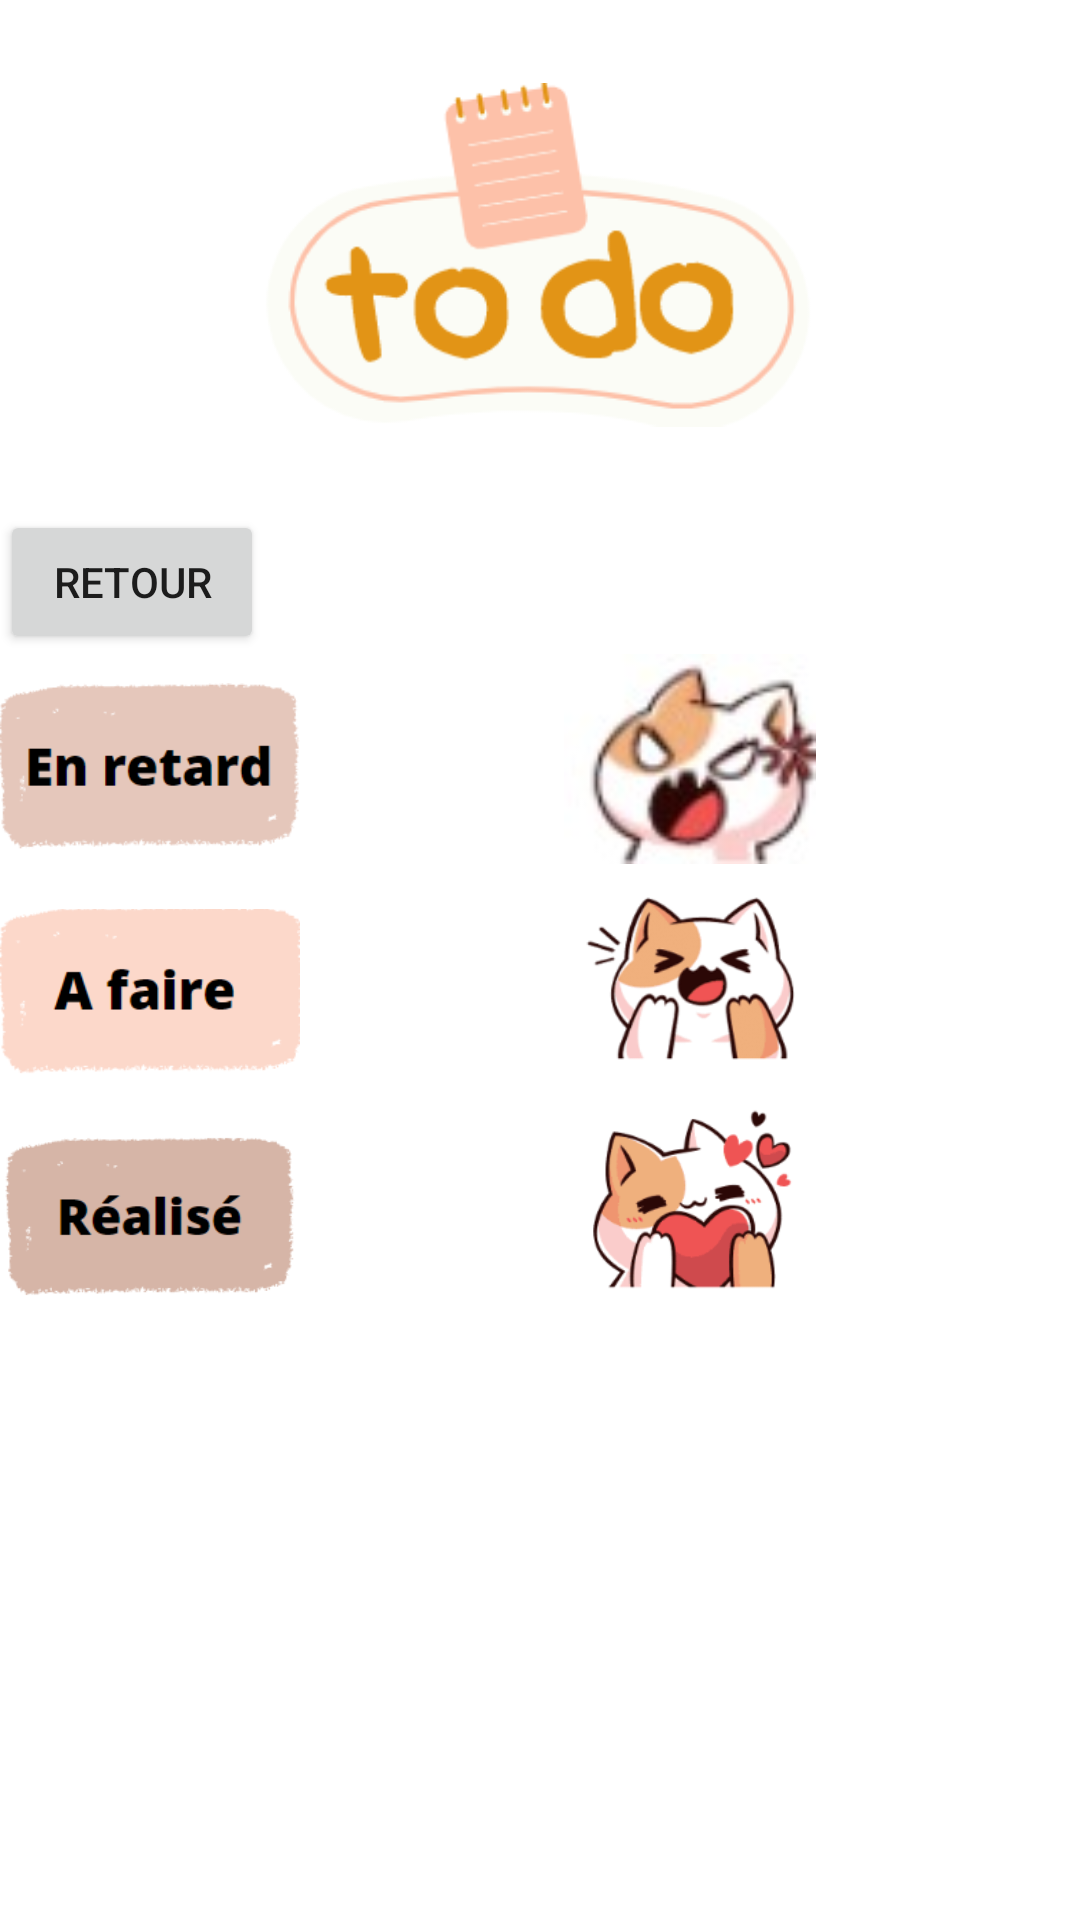

Locate icon controls on the screen. Image size 1080x1920, boxes as box(x1, y1, x2, y2).
angry cat: box(591, 665, 816, 864)
coueurchat: box(593, 1111, 791, 1288)
